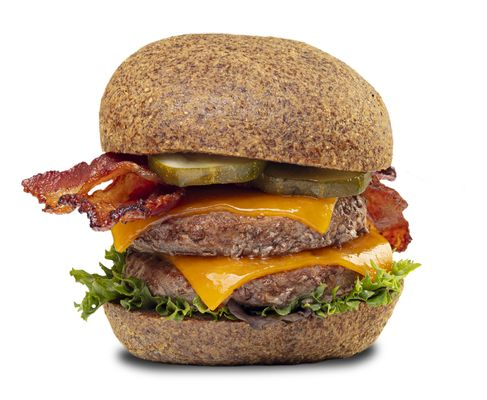soup: (19, 32, 398, 375)
